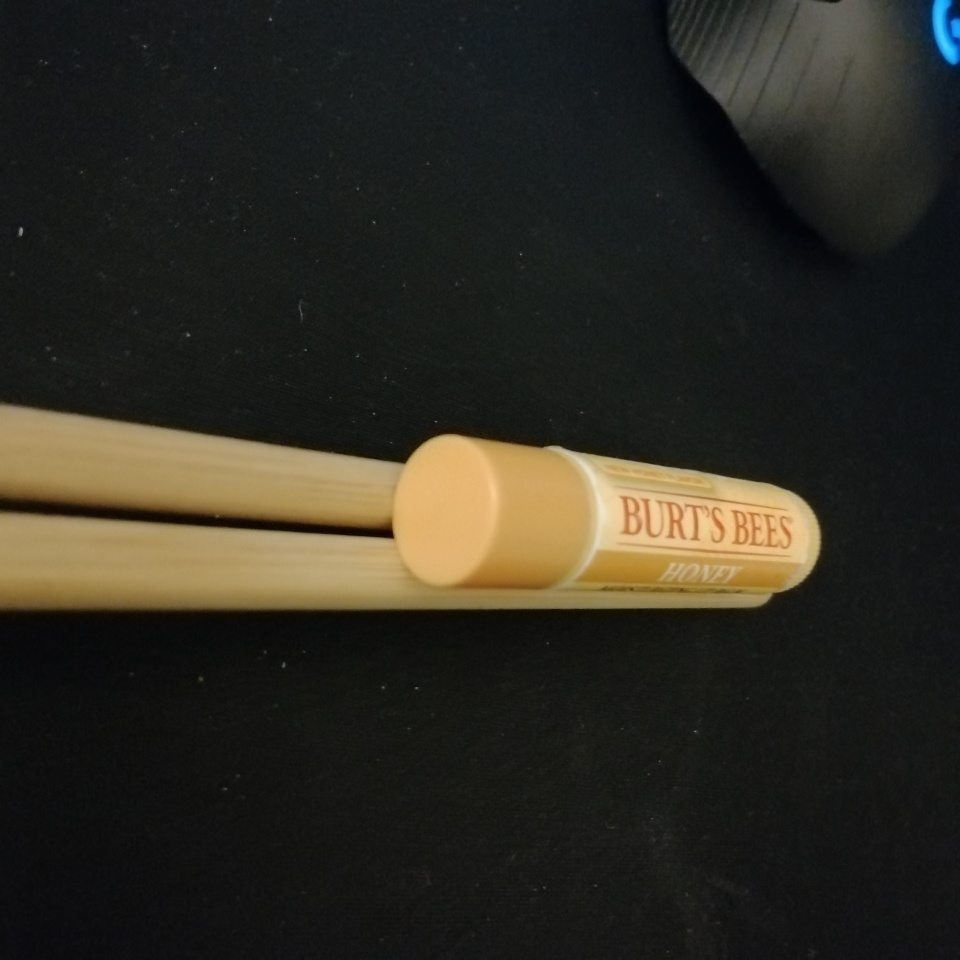chapstick: (391, 432, 823, 593)
